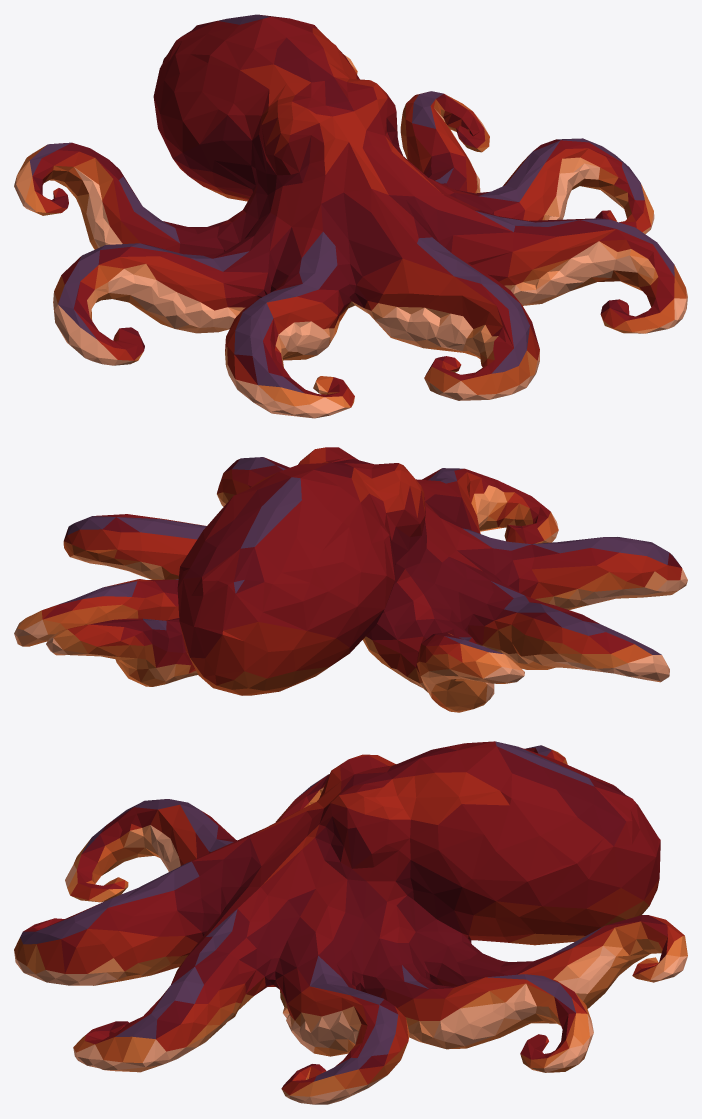
File: low-poly-octopus.glb
The picture shows the model from 3 angles, top to bottom: view 1: azimuth 30°, elevation 25°; view 2: azimuth 150°, elevation 25°; view 3: azimuth 270°, elevation 25°; orthographic projection. The views are drawn at different scales.
Parts seen in each view (by area): view 1: low-poly-octopus; view 2: low-poly-octopus; view 3: low-poly-octopus.
Part boxes in pixels (x1,y1,x2,y2): low-poly-octopus: (14, 14, 687, 418); low-poly-octopus: (14, 447, 687, 712); low-poly-octopus: (14, 741, 687, 1104).
Bounding box in the file's own units: 2.53 × 0.8706 × 2.45.
1 material, 1 textured.
